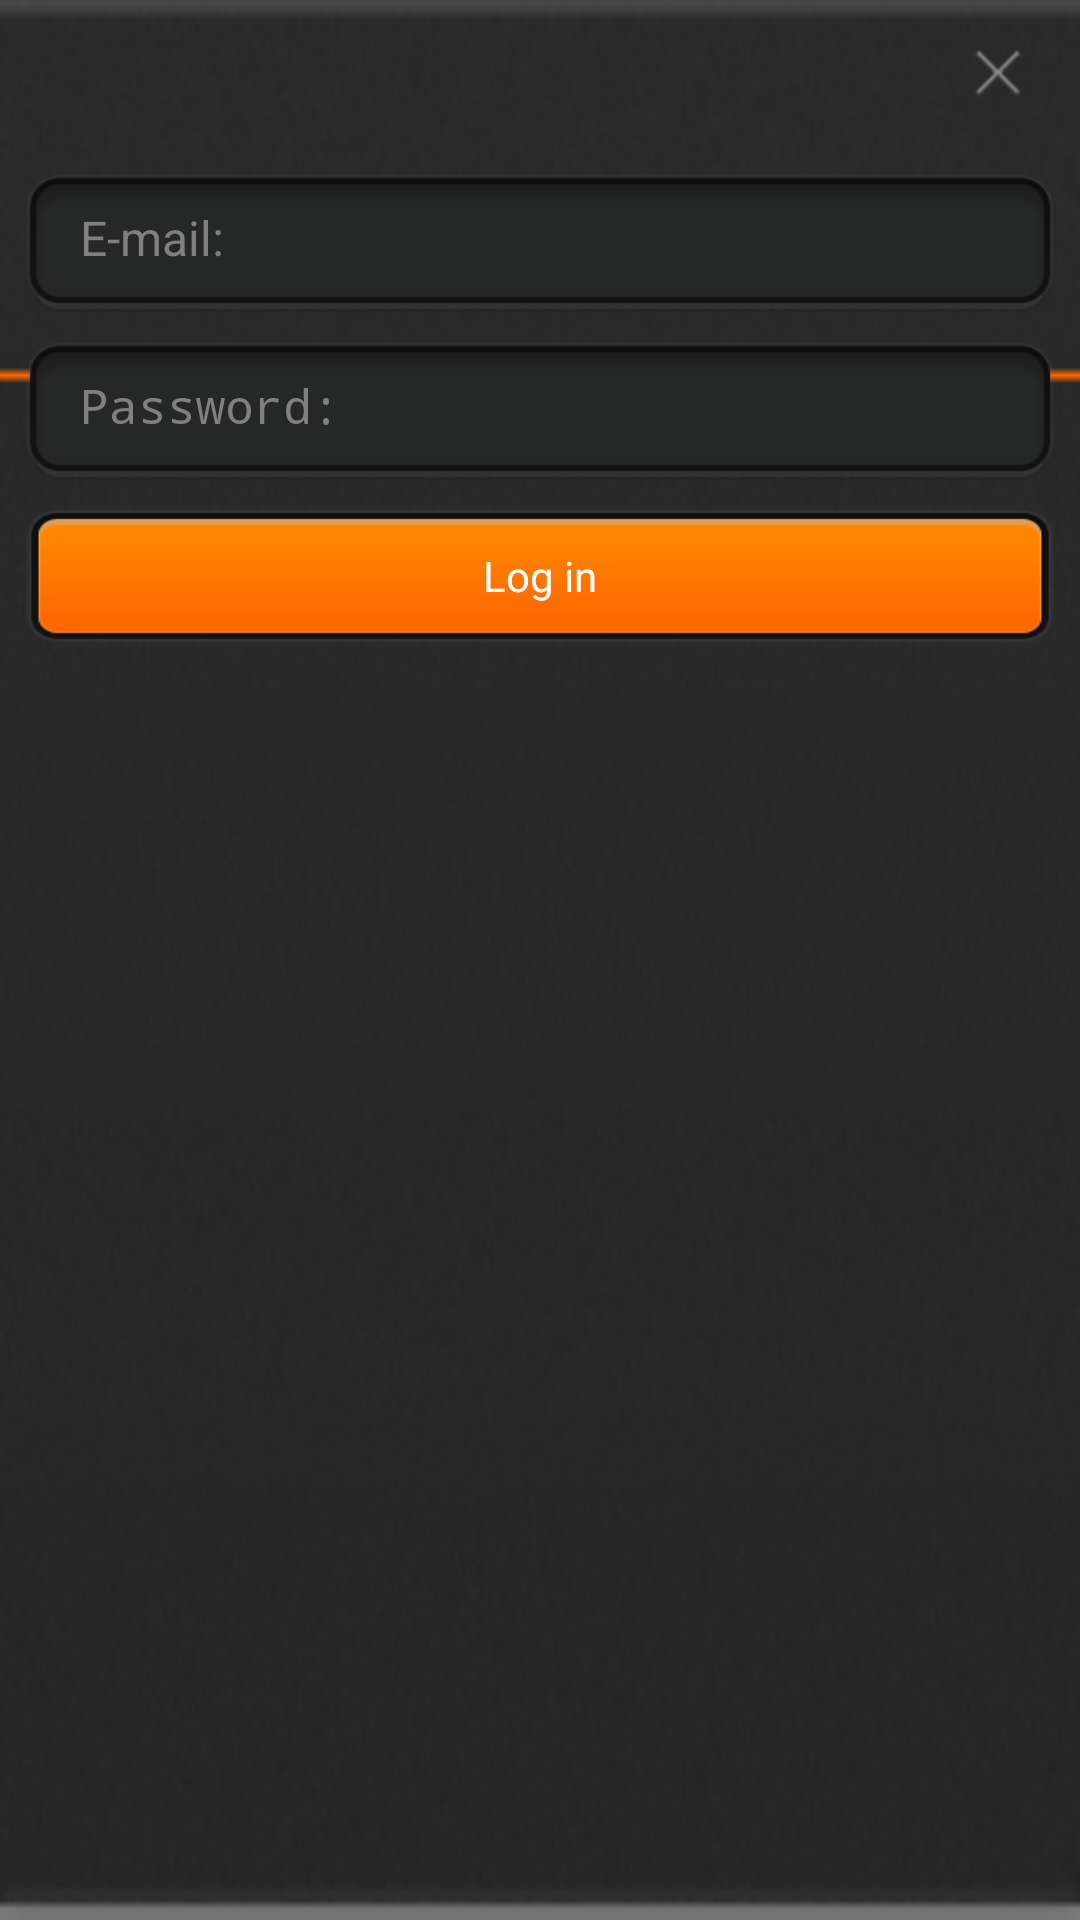

Screen size 1080*1920. Icon name, then its center in pixels as (x,y):
close: (998,72)
